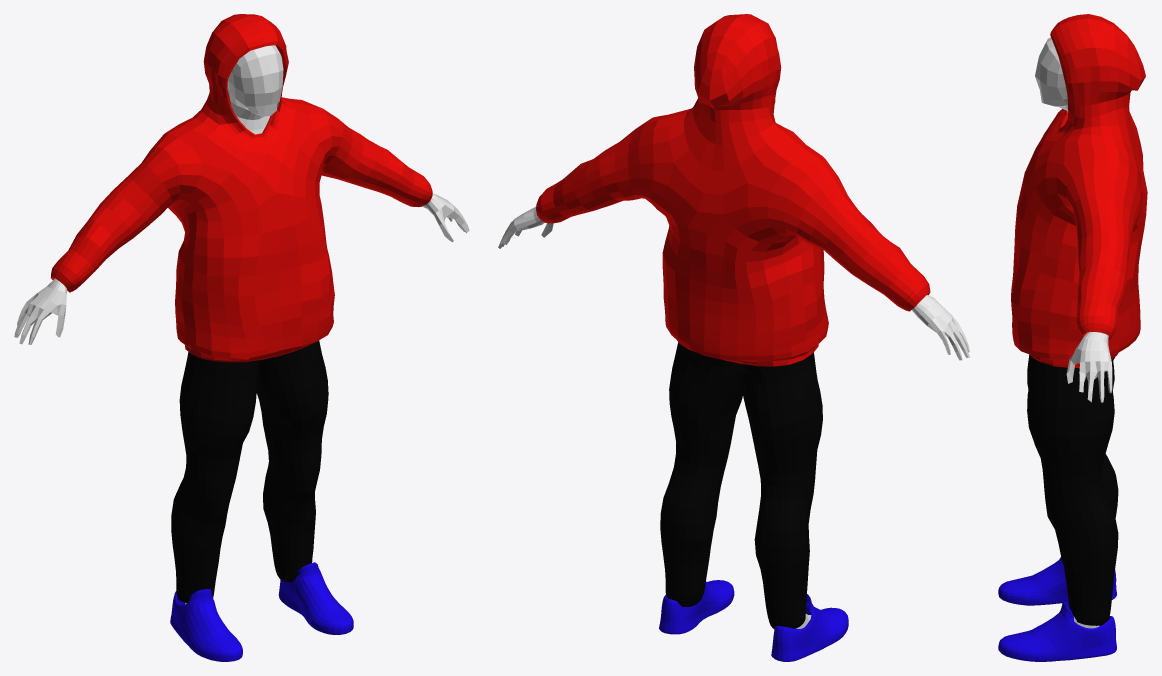
File: PlayerModelUnWrapped.fbx
The picture shows the model from 3 angles, left to right: view 1: azimuth 30°, elevation 25°; view 2: azimuth 150°, elevation 25°; view 3: azimuth 270°, elevation 25°; orthographic projection. The views are drawn at different scales.
Parts seen in each view (by area): view 1: player_hoodie; view 2: player_hoodie; view 3: player_hoodie.
Boxes of the visible parts, x1,y1,x2,y2 form: player_hoodie: (14, 14, 469, 661); player_hoodie: (498, 14, 969, 661); player_hoodie: (998, 14, 1147, 661).
Size of the model in its own units: 36069 by 46073 by 10249.
